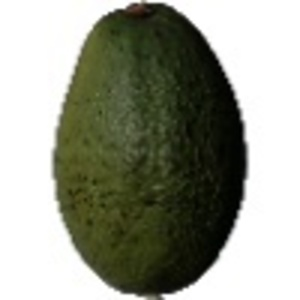abacate: (50, 1, 249, 294)
